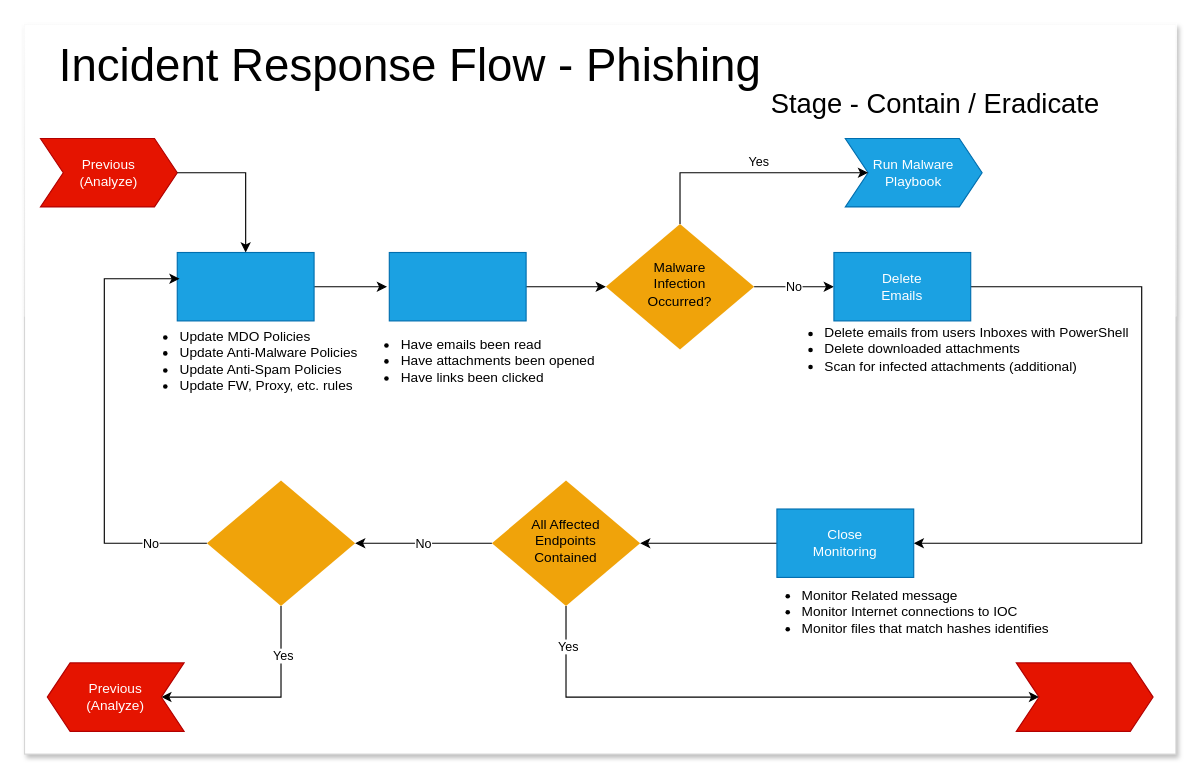
The diagram is 1203 pixels wide and 782 high, and some of its shapes have lost their labels. The centre of each missing label's shape, as x and y in pixels:
"Action Taken by User" belongs at [457,286].
"Block C2, Email Traffic" belongs at [245,286].
"New IOC Discovered" belongs at [280,542].
"Next (Recover)" belongs at [1084,696].
